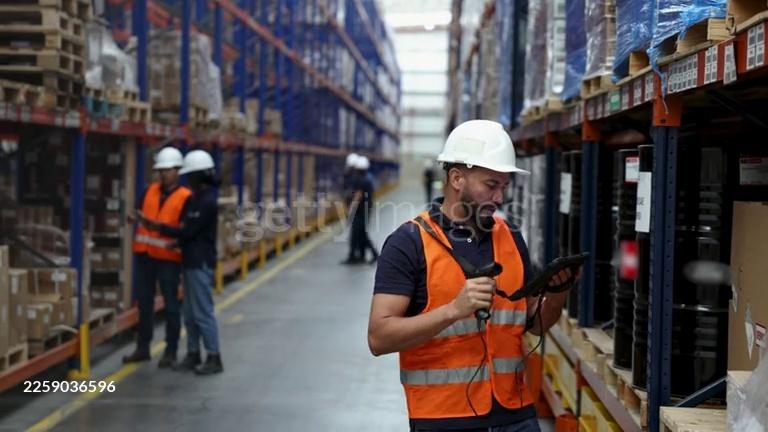helmet: (436, 120, 531, 173), (178, 149, 218, 175), (152, 146, 184, 169), (345, 154, 369, 169)
person: (368, 122, 578, 432), (117, 147, 186, 367), (167, 150, 223, 377), (340, 154, 377, 266)
